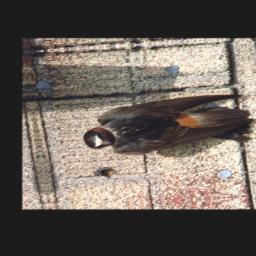Swallow: (76, 91, 256, 158)
